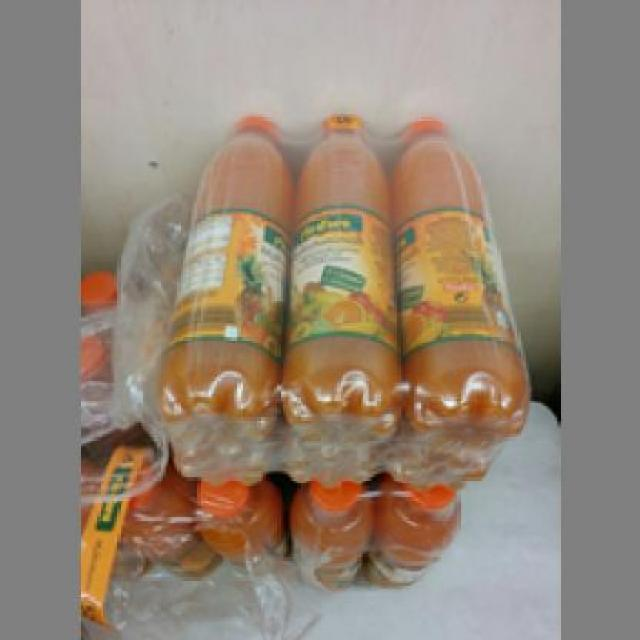Juice: (391, 109, 524, 432), (168, 106, 286, 420), (286, 102, 394, 428)
